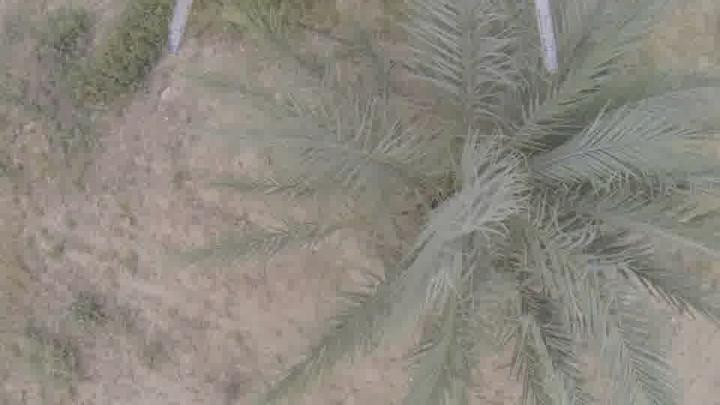Date-Palm-Crown: (269, 30, 691, 342)
